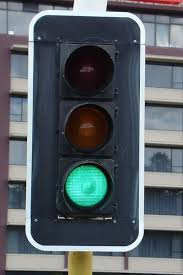green: (25, 9, 149, 257), (43, 32, 127, 234), (56, 41, 118, 222), (64, 46, 112, 214)
